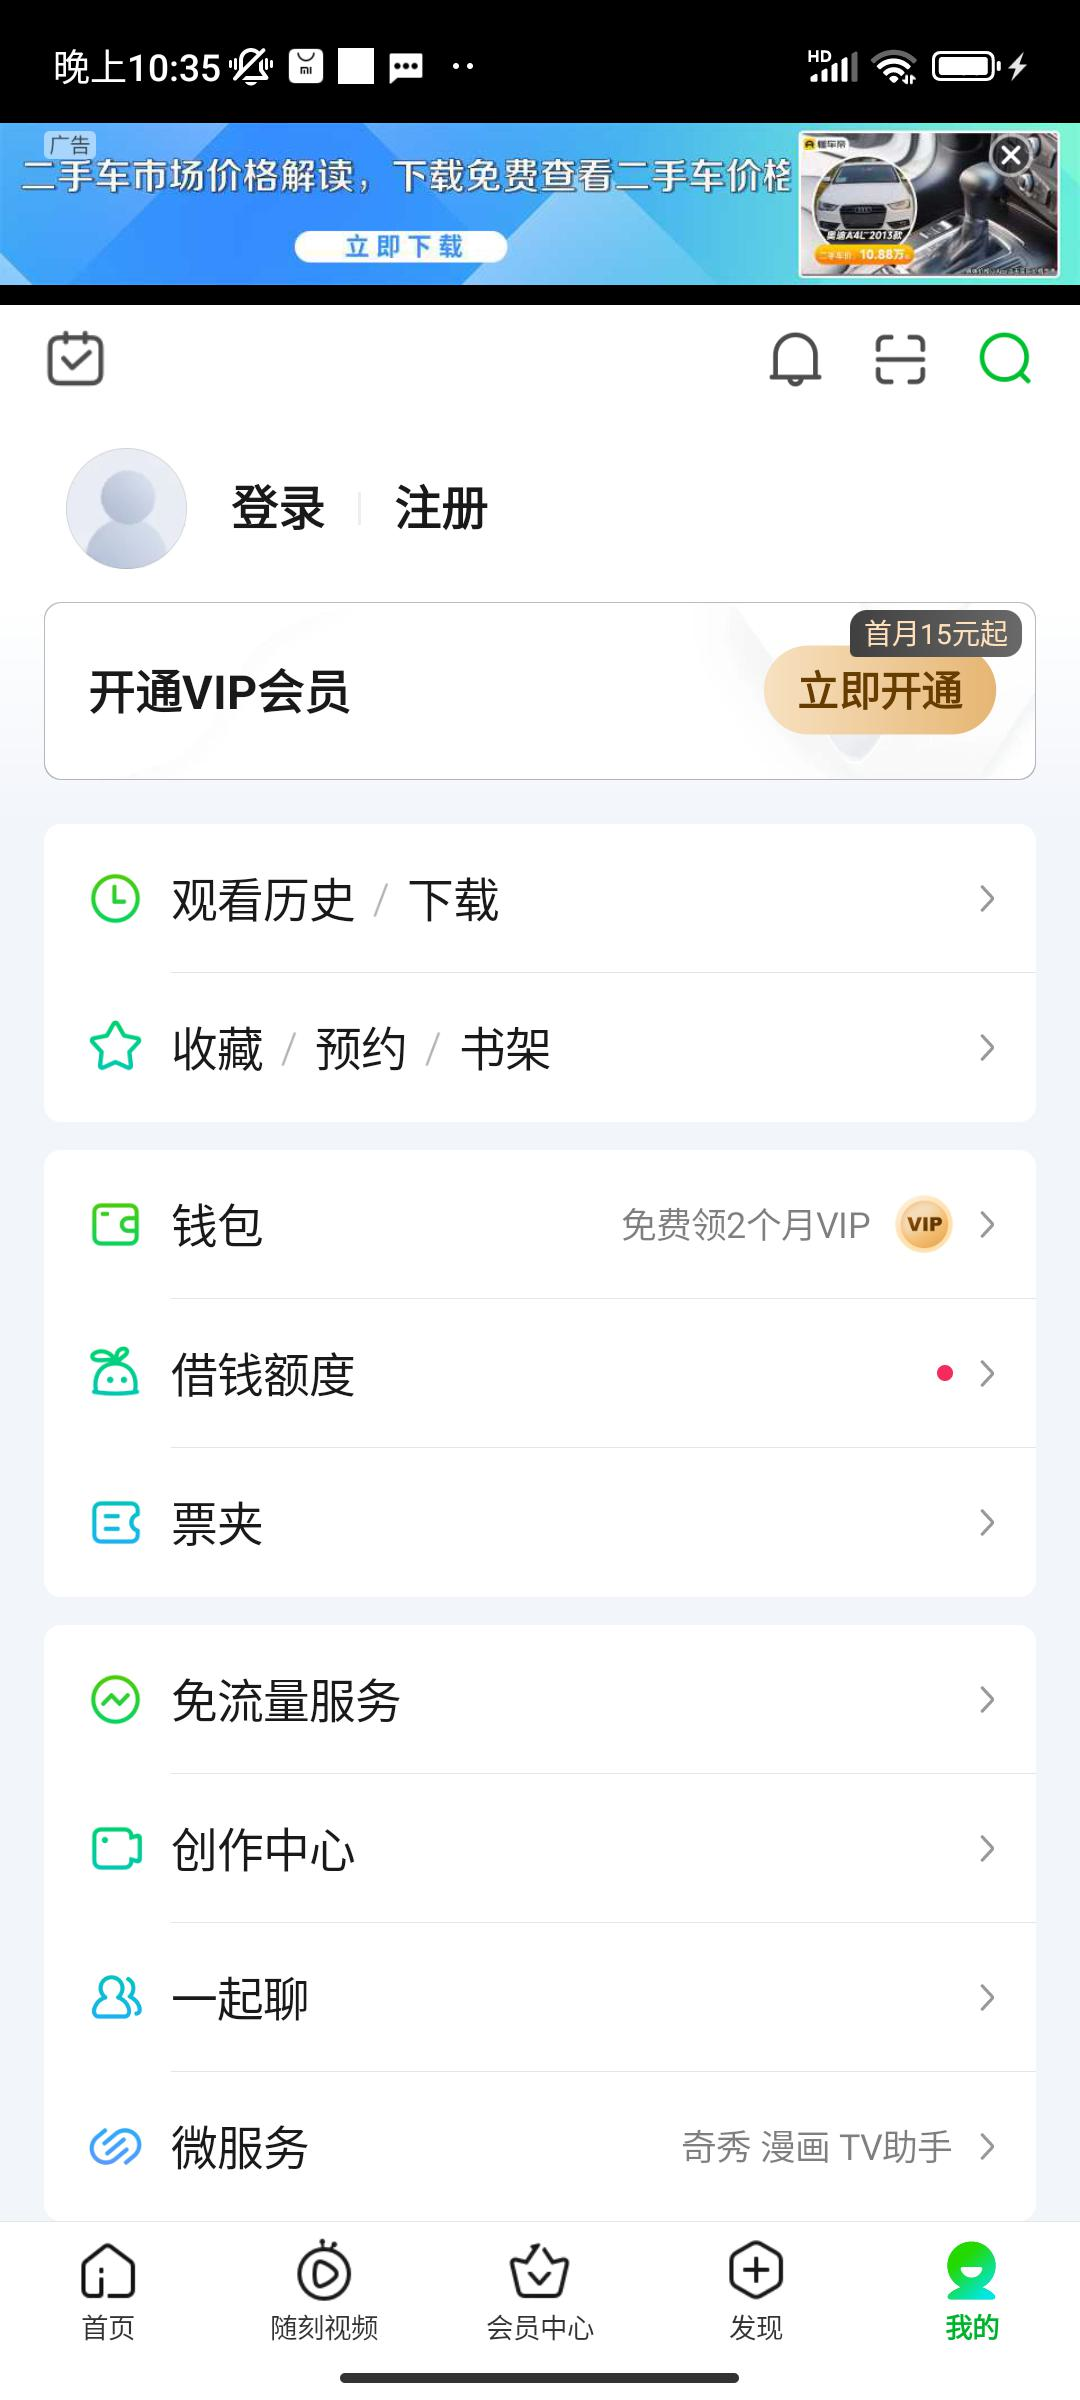ui_group: (37, 605, 1046, 781), (52, 2074, 1022, 2216), (52, 1166, 1019, 1295)
